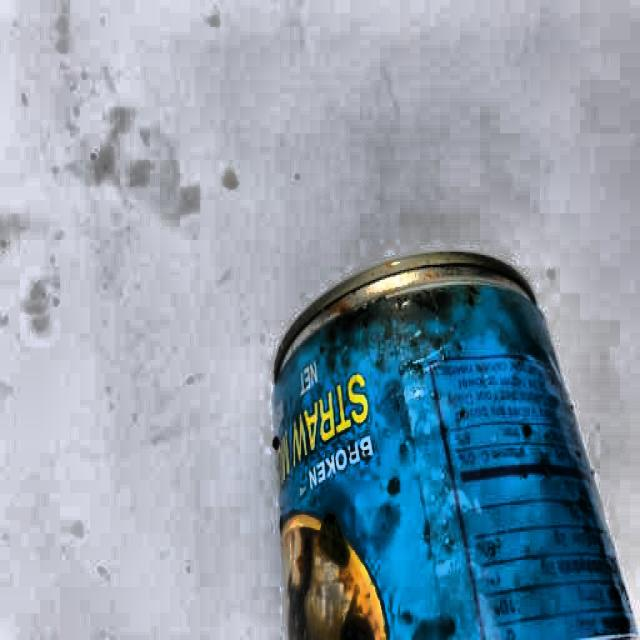metal: (269, 247, 640, 640)
